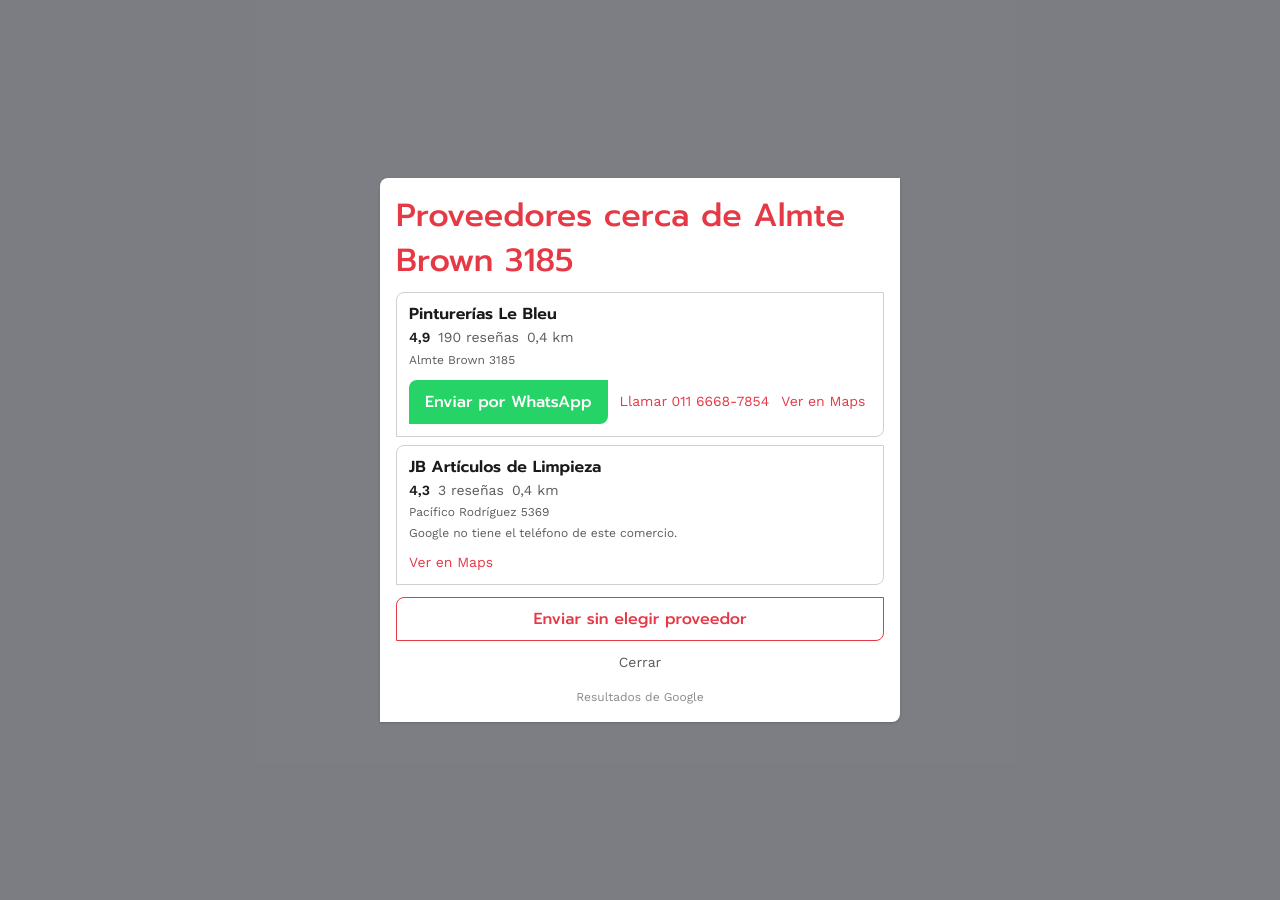
Test: DialogoProveedores › enviarle a un proveedor no gasta una segunda búsqueda
The width and height of the screenshot is (1280, 900).
Click the button "Enviar por WhatsApp".
click(508, 402)  # box [409,380,608,424]
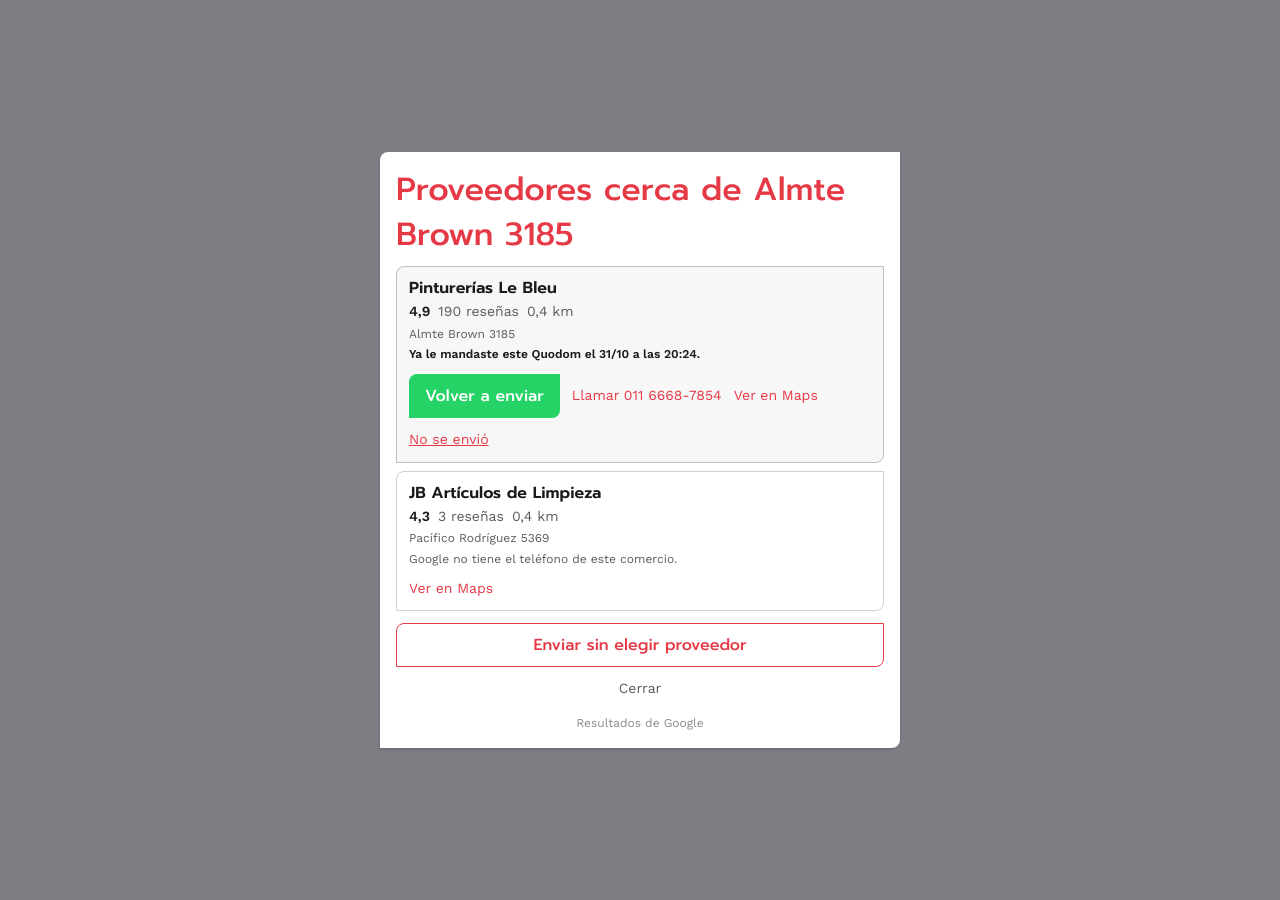
Expected: the heading "JB Artículos de Limpieza" is shown, [409,481,601,505]
Expected: the text "Ya le mandaste este Quodom el 31/10 a las 20:24." is shown, [409,347,700,361]
